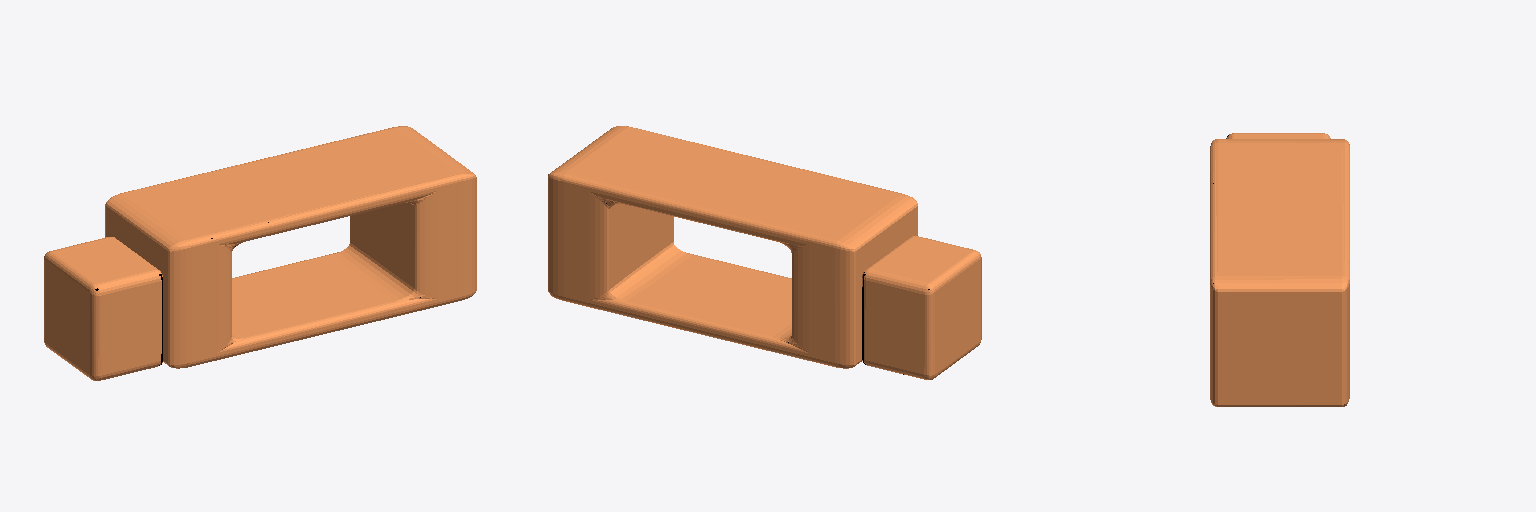
The picture shows the model from 3 angles: view 1: azimuth 30°, elevation 25°; view 2: azimuth 150°, elevation 25°; view 3: azimuth 270°, elevation 25°; orthographic projection.
Parts seen in each view (by area): view 1: Cube; view 2: Cube; view 3: Cube.
Part boxes in pixels (x1,y1,x2,y2): Cube: (44, 126, 476, 380); Cube: (548, 126, 981, 379); Cube: (1210, 133, 1349, 406).
Bounding box in the file's own units: 8.45 × 2.71 × 2.71.
Materials: 1 (1 with a texture image).